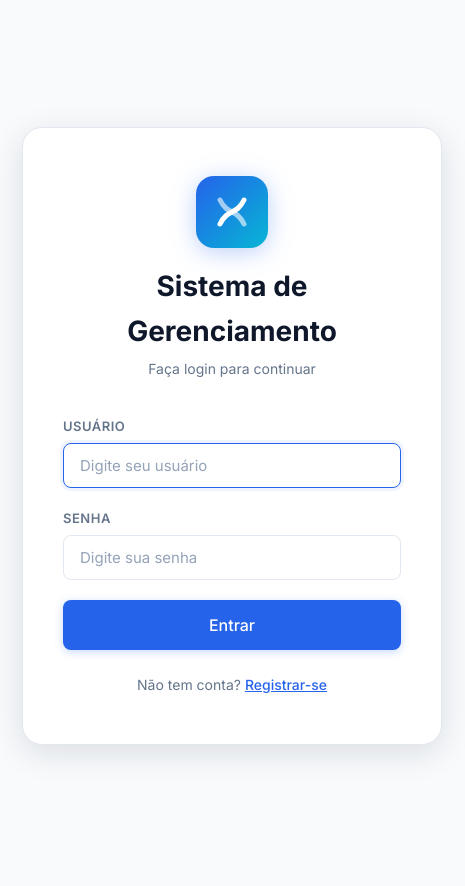
Test case: Login Page › switches between login and register modes
expect the text "Faça login para continuar" is shown: met, box [148,360,316,377]
Click the button "Registrar-se". click: (286, 684)
box: [245,676,327,693]
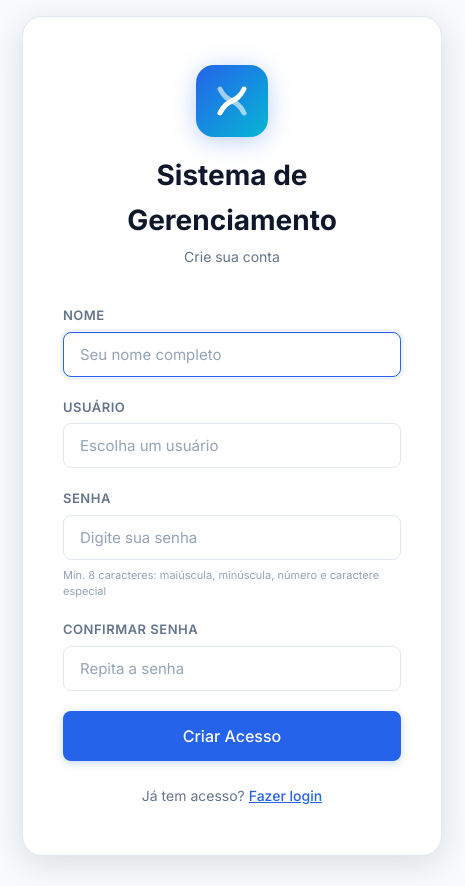
expect the text "Crie sua conta" is shown: met, box [184,248,280,265]
expect the text "Já tem acesso?" is shown: met, box [142,787,245,804]
Click the button "Fazer login". click: (285, 795)
box: [249,787,322,804]
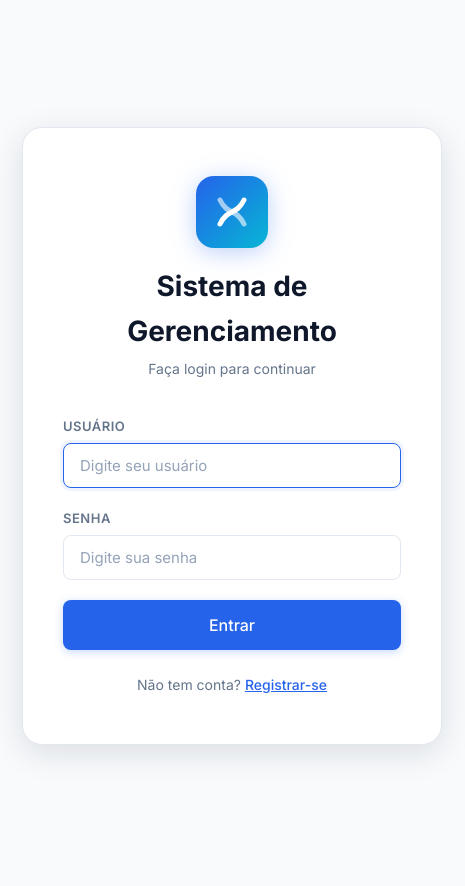
expect the text "Faça login para continuar" is shown: met, box [148,360,316,377]
